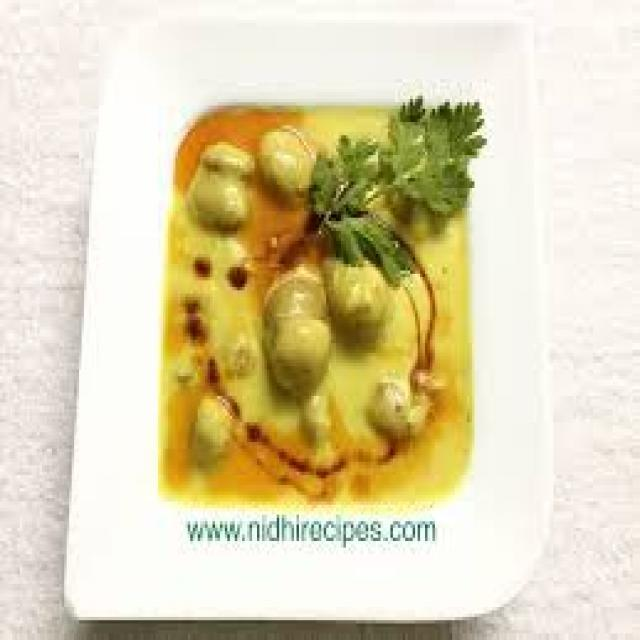Kadhi Pakora: (160, 100, 474, 507)
